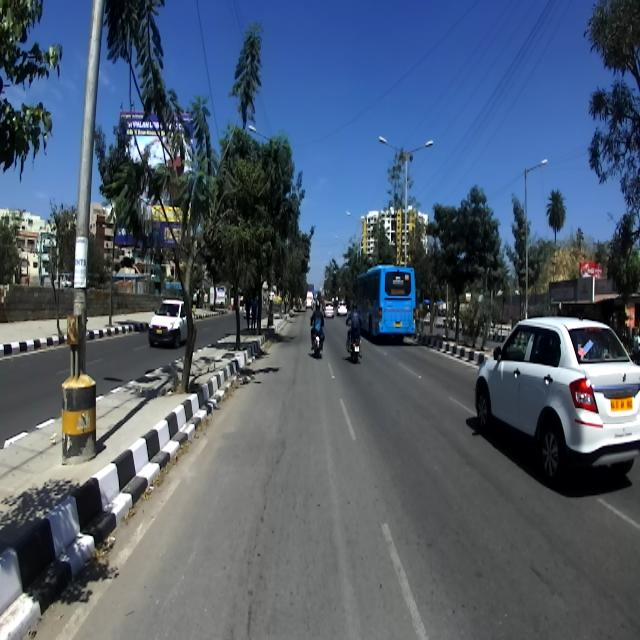car ahead at: (472, 312, 640, 486)
motorcycle ahead at: (344, 320, 366, 368)
